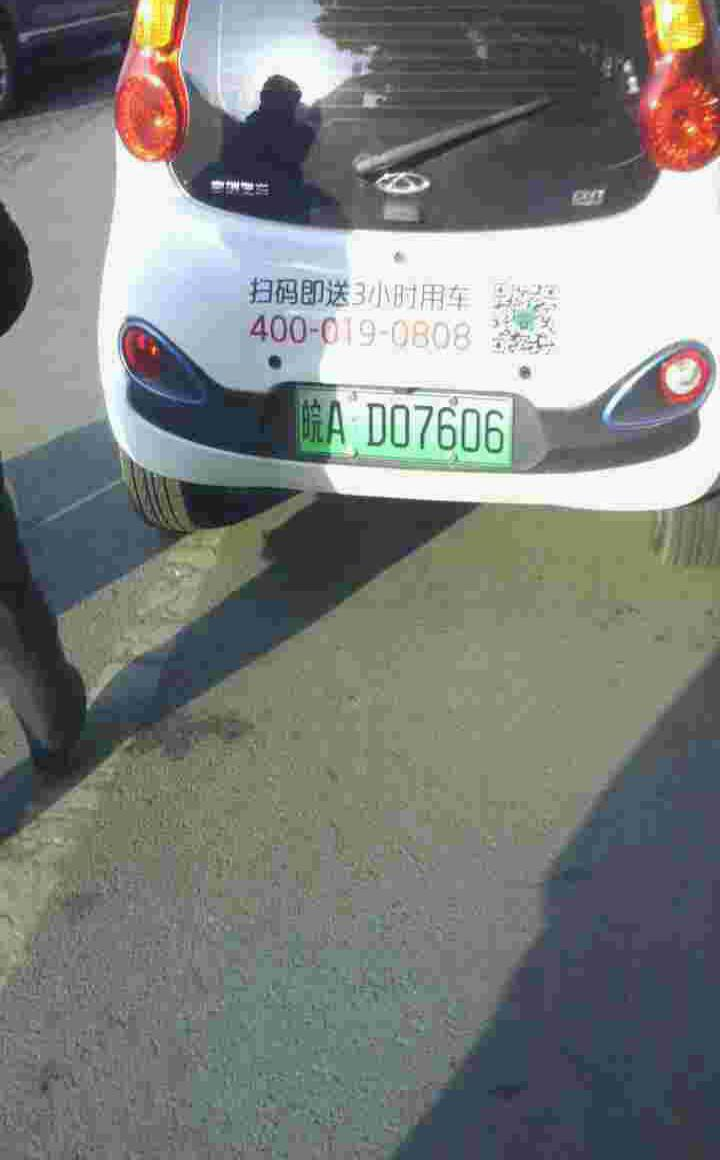car_green: (288, 379, 518, 469)
